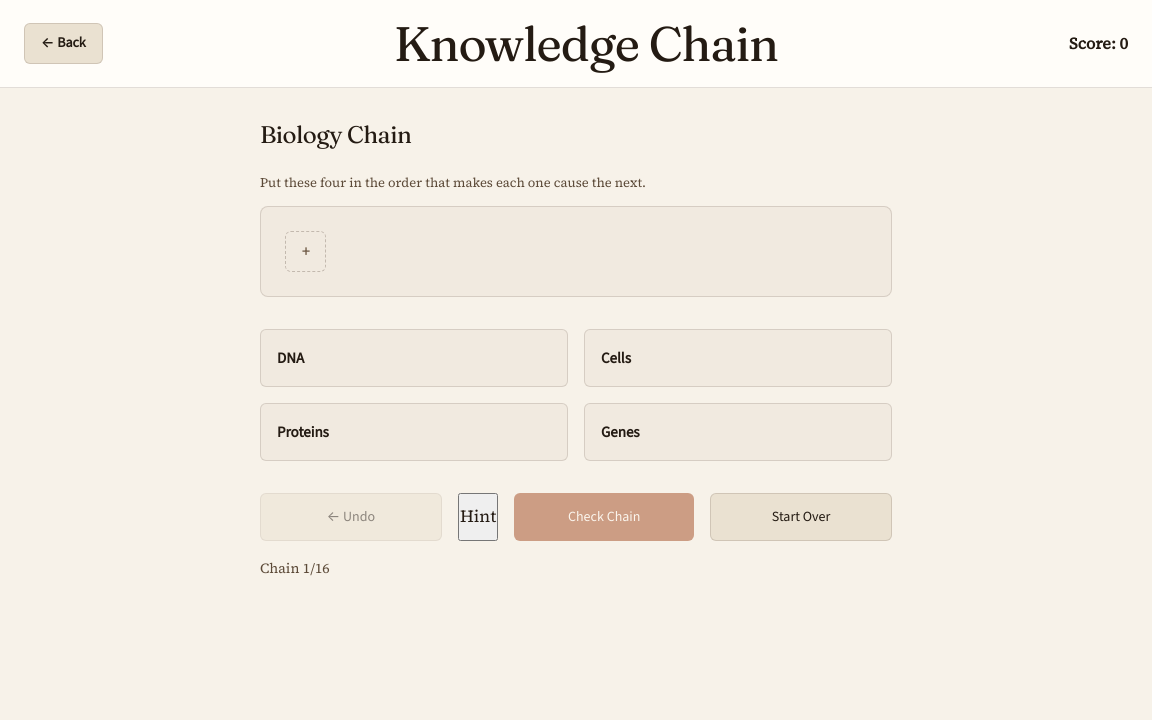
Test case: Knowledge Chain › the right four concepts in the wrong order are rejected
Click the button "DNA" at [291, 358], box [260,329,568,387]
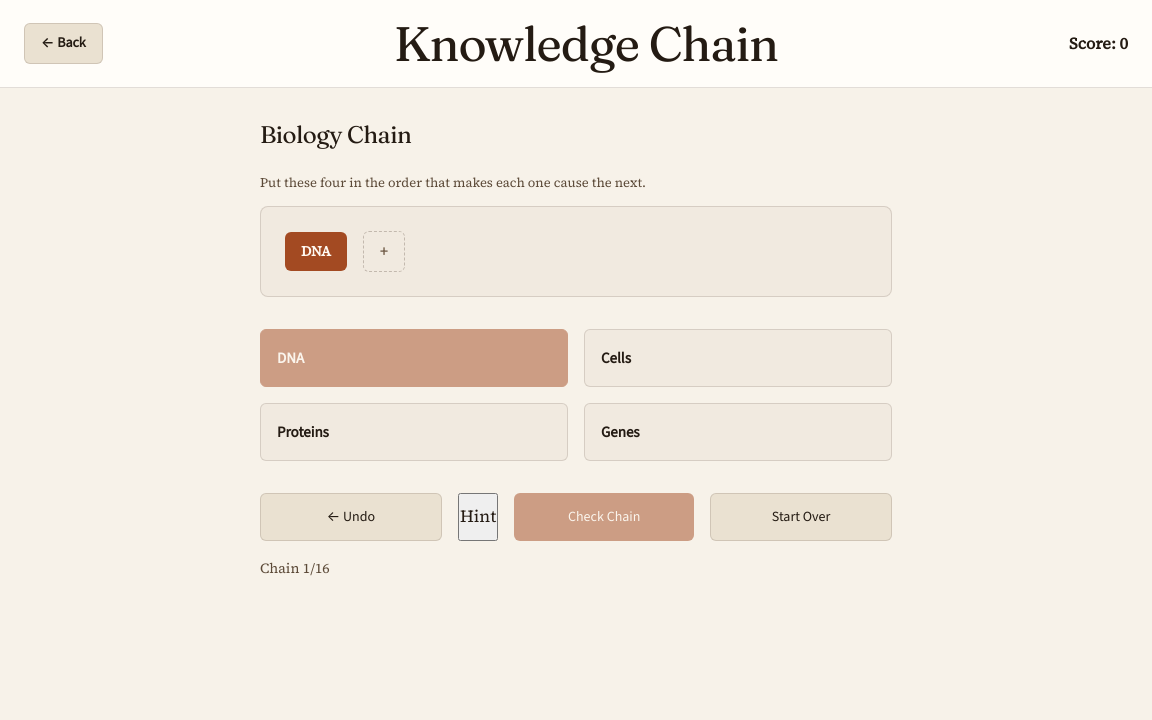
Click the button "Proteins" at [303, 432], box [260,403,568,461]
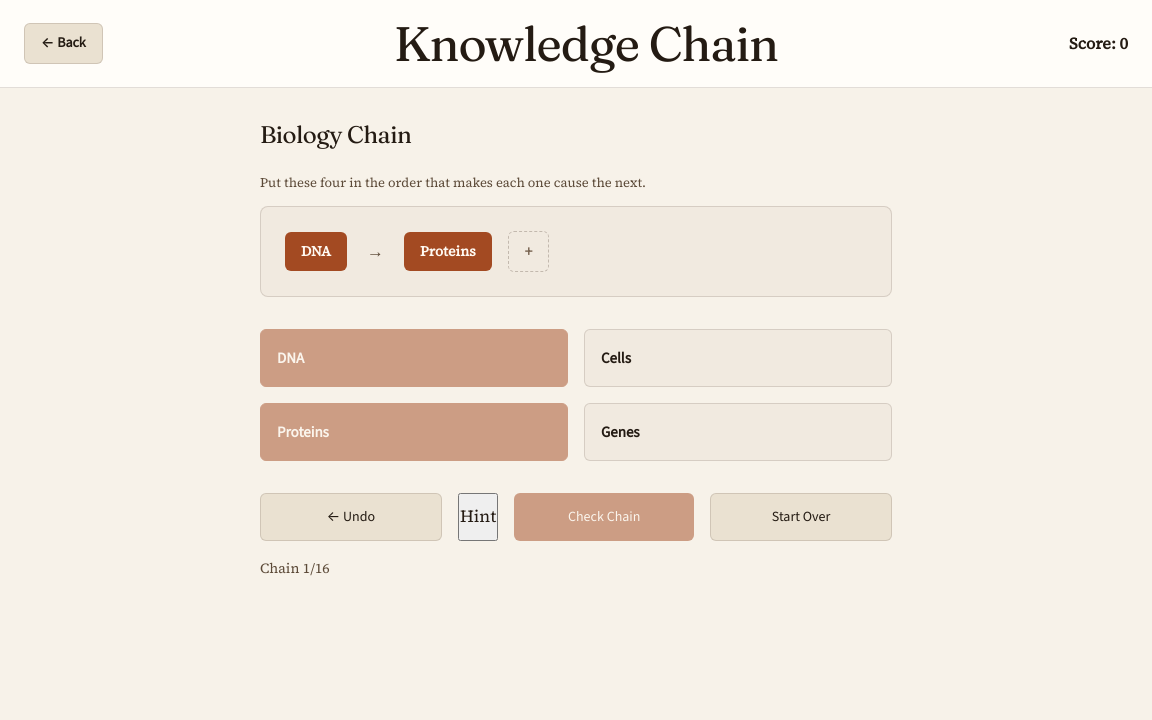
Click the button "Genes" at [620, 432], box [584,403,892,461]
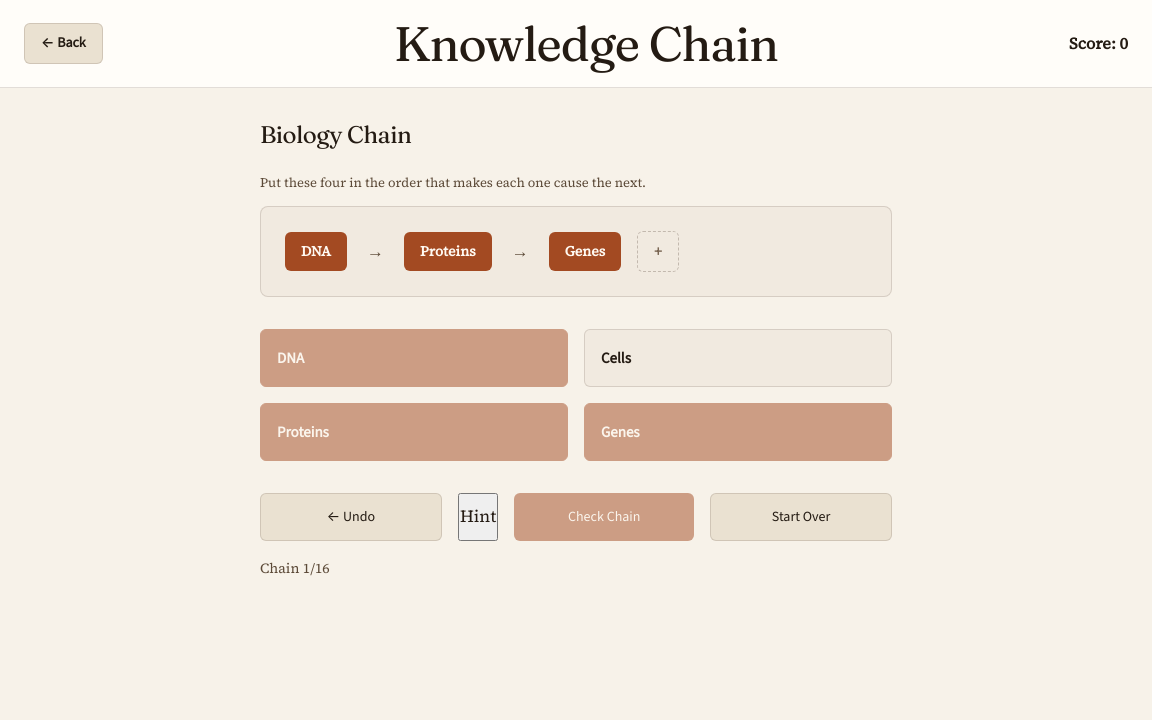
Click the button "Cells" at [616, 358], box [584,329,892,387]
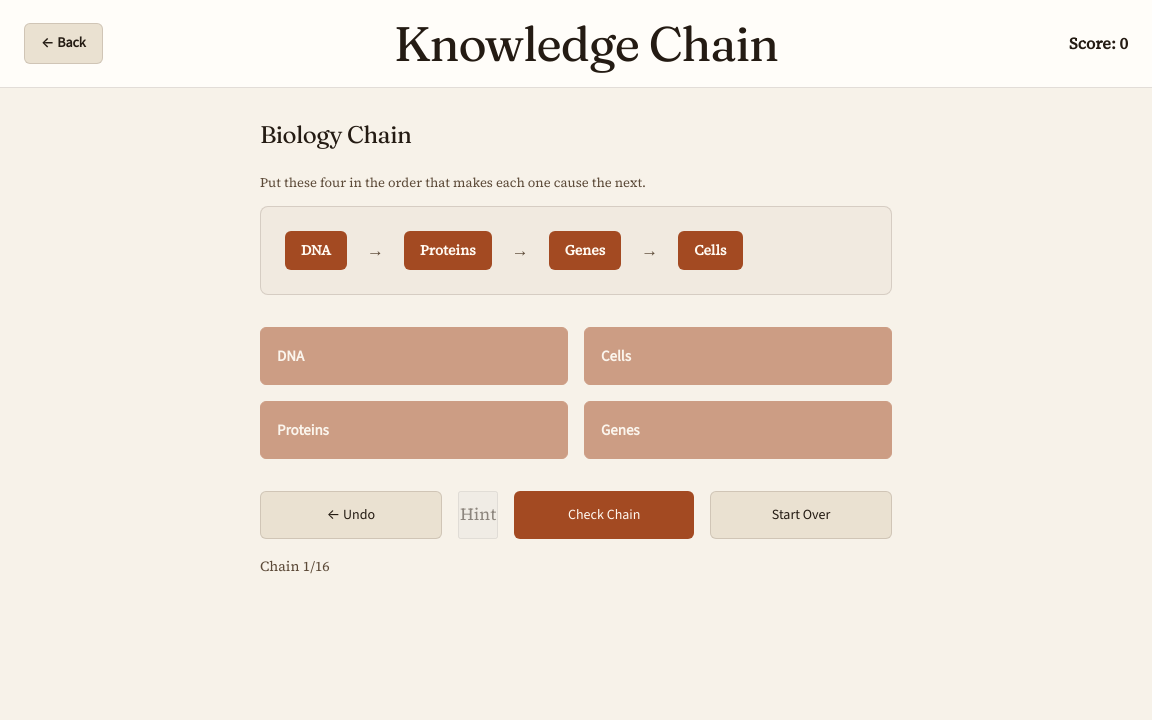
Click the button "Check Chain" at [604, 515], box [514,491,694,539]
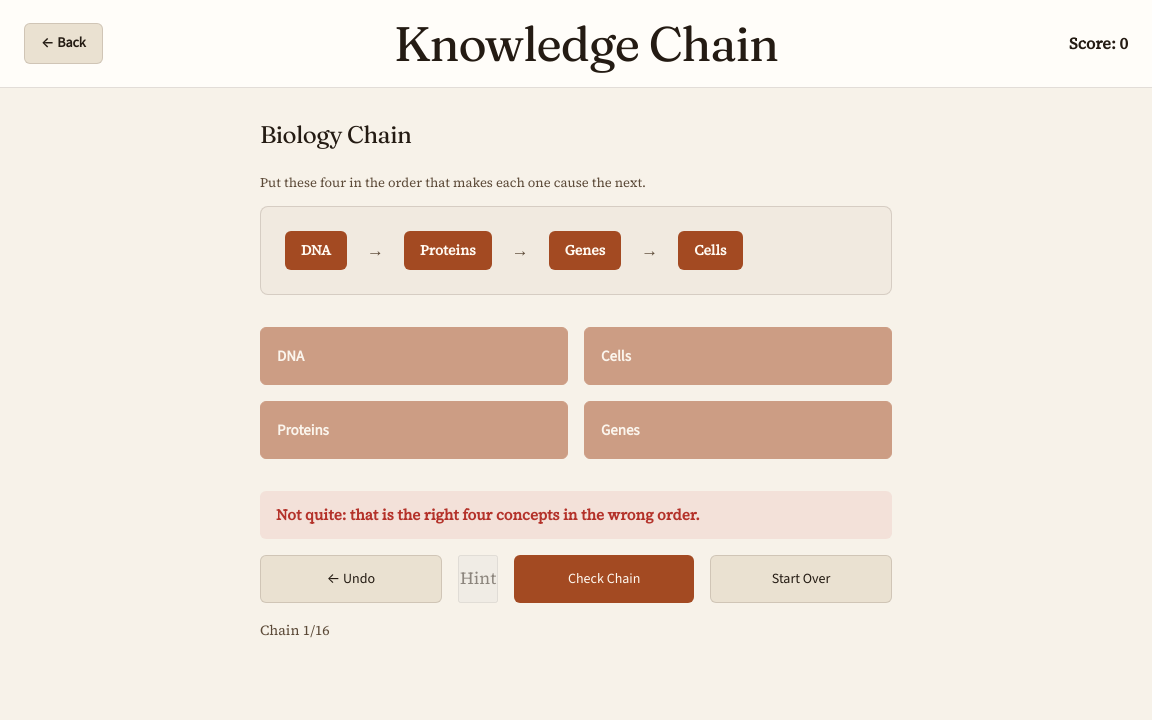
Expected: the text "Score: 0" is shown, [1069,31,1128,56]
Result: the text "Not quite: that is the right four concepts in the wrong order." is shown at [260,491,892,539]
